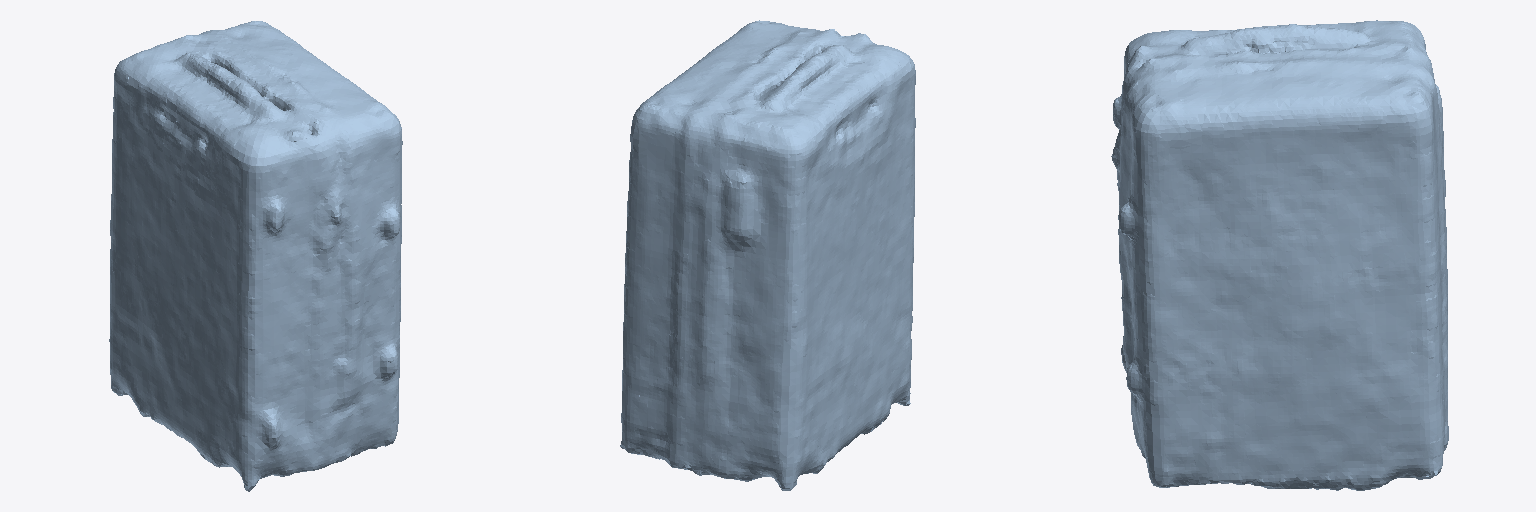
The robot description file, URDF, robot "suitcase.urdf":
<?xml version="1.0" ?>
<robot name="suitcase.urdf">
  <dynamics damping="0.5" friction="0.9"/>
  <link name="baseLink">
    <contact>
      <lateral_friction value="0.9"/>
      <rolling_friction value="0.5"/>
      <stiffness value="30000"/>
      <damping value="1000"/>
    </contact>
    <visual>
      <origin rpy="0 0 0" xyz="0 0 0"/>
      <geometry>
        <mesh filename="meshes/suitcase/suitcase.stl" scale="1.0 1.0 1.0"/>
      </geometry>
       <material name="mat">
        <color rgba="0.7 0.8 0.9 1"/>
      </material>
    </visual>
    <collision>
      <origin rpy="0 0 0" xyz="0 0 0"/>
      <geometry>
	 	<mesh filename="meshes/suitcase/suitcase.stl" scale="1.0 1.0 1.0"/>
      </geometry>
    </collision>
  </link>
</robot>

--- What the picture shows (computed from the rendered views, not written in the file) ---
Views: 3 orthographic renders of the robot side by side, from view 1: azimuth 30°, elevation 25°; view 2: azimuth 150°, elevation 25°; view 3: azimuth 270°, elevation 25°.
Robot: suitcase.urdf — 1 links, 0 joints (none); root link baseLink; default pose: every joint at zero.
Links seen in each view (by area): view 1: baseLink; view 2: baseLink; view 3: baseLink.
Boxes of the visible links, box(x1,y1,x2,y2) form: baseLink: box(109, 21, 402, 491); baseLink: box(620, 20, 915, 490); baseLink: box(1111, 20, 1448, 490).
Bounding box of the posed robot: 0.2694 × 0.3951 × 0.5299 m (x, y, z).
1 mesh visuals loaded from 1 distinct referenced files (1 binary STL).
